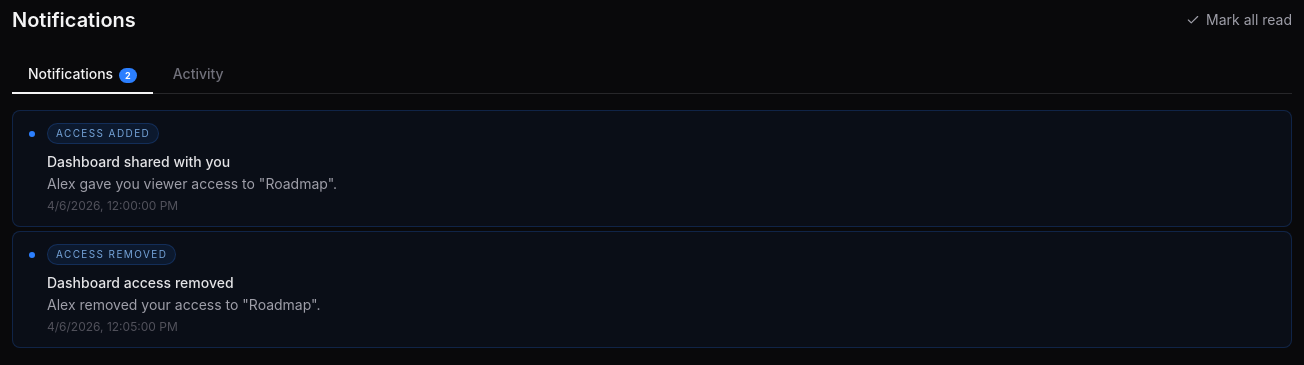
Test case: NotificationsPage › fetches activity the first time the tab is opened
Click the button "activity" at (198, 75), box left=157, top=56, right=240, bottom=94
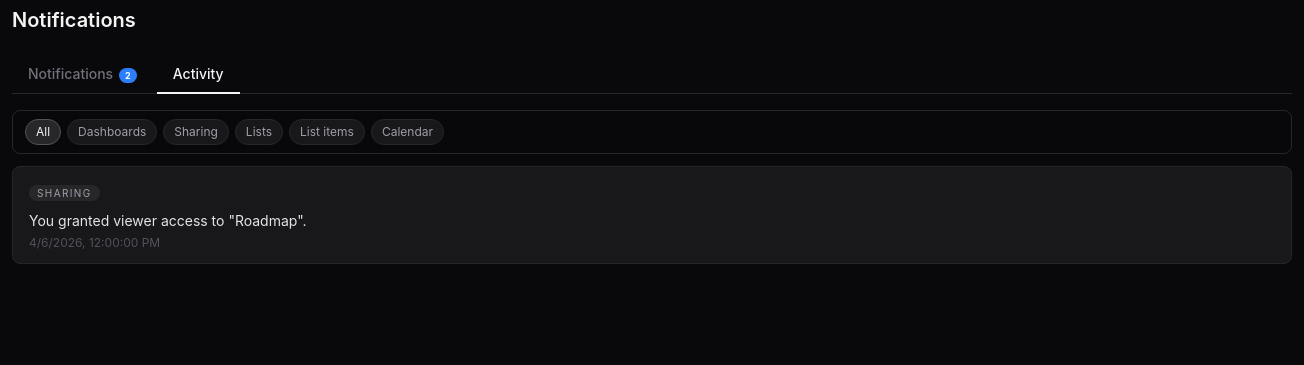
Expected: the text "You granted viewer access to \"Roadmap\"." is shown, left=29, top=212, right=307, bottom=229
